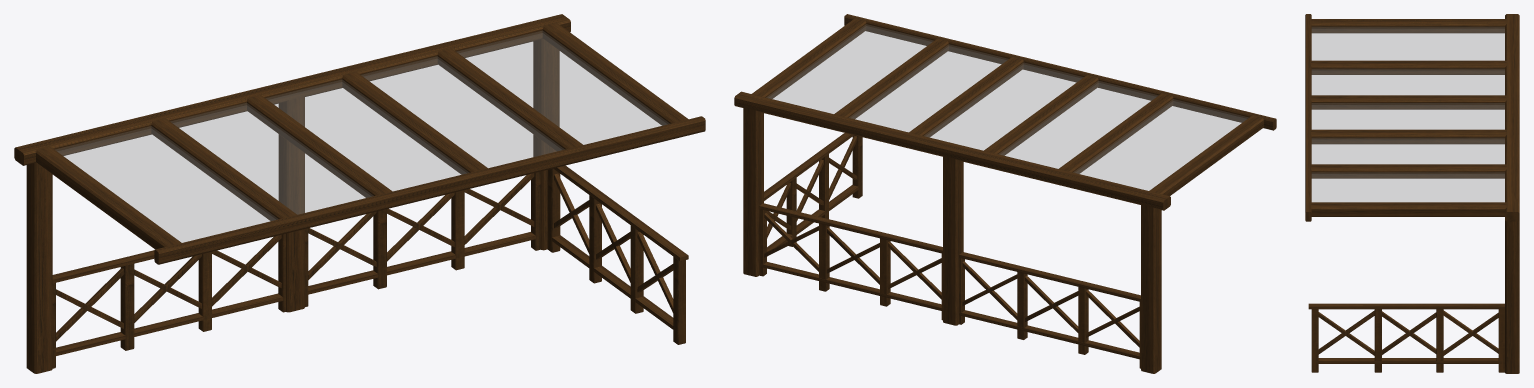
Rendered from Exterior.FBX.
3 renders of one model, left to right at view 1: azimuth 30°, elevation 25°; view 2: azimuth 150°, elevation 25°; view 3: azimuth 270°, elevation 25°, orthographic. The views are drawn at different scales.
Parts seen in each view (by area): view 1: Exterior; view 2: Exterior; view 3: Exterior.
Part boxes in pixels (box(x1,y1,x2,y2)): Exterior: box(14, 14, 705, 373); Exterior: box(734, 14, 1276, 373); Exterior: box(1305, 14, 1519, 373).
Size of the model in its own units: 6462 by 2527 by 2955.
2 materials, 1 textured.
